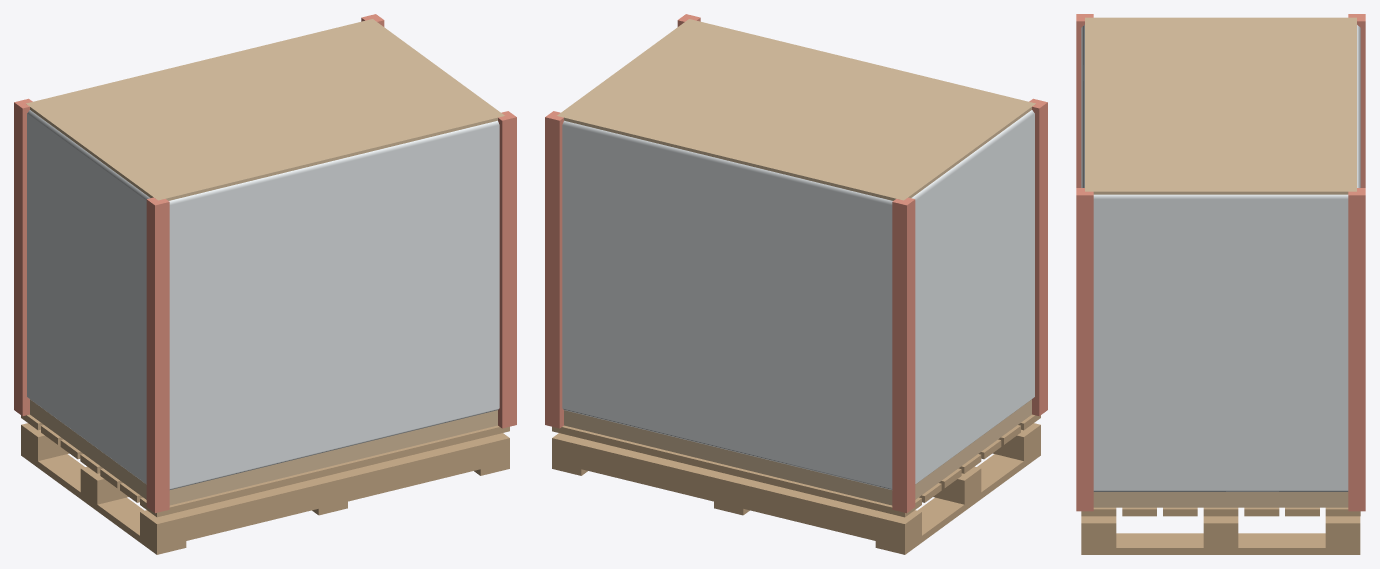
Rendered from pallet_full.glb.
3 renders of one model, left to right at view 1: azimuth 30°, elevation 25°; view 2: azimuth 150°, elevation 25°; view 3: azimuth 270°, elevation 25°, orthographic. The views are drawn at different scales.
Parts seen in each view (by area): view 1: root__wrap, root__kraft, root__wood, root__tint; view 2: root__wrap, root__kraft, root__wood, root__tint; view 3: root__wrap, root__kraft, root__tint, root__wood.
Part boxes in pixels (bbox=[...]): root__wrap: bbox=[27, 110, 499, 489]; root__kraft: bbox=[26, 19, 504, 505]; root__wood: bbox=[21, 414, 509, 554]; root__tint: bbox=[14, 14, 516, 513]; root__wrap: bbox=[562, 110, 1034, 489]; root__kraft: bbox=[557, 19, 1035, 505]; root__wood: bbox=[552, 414, 1040, 554]; root__tint: bbox=[545, 14, 1047, 513]; root__wrap: bbox=[1081, 25, 1360, 491]; root__kraft: bbox=[1085, 17, 1356, 507]; root__tint: bbox=[1076, 14, 1365, 511]; root__wood: bbox=[1081, 507, 1360, 554].
Size of the model in its own units: 1.23 by 1.15 by 0.83.
